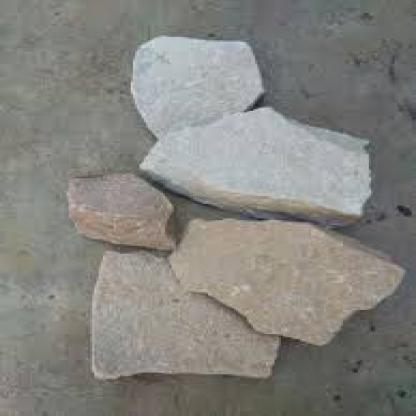Metamorphic_Quartize: (167, 207, 414, 358), (137, 93, 408, 227), (71, 242, 279, 393), (118, 34, 274, 130), (56, 168, 180, 258)
